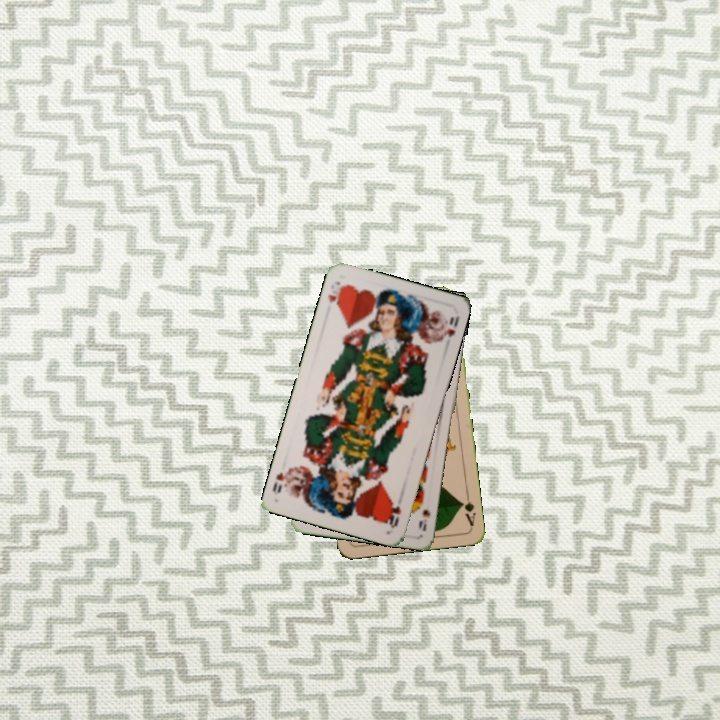GA: (457, 488, 478, 529)
HO: (324, 277, 346, 310), (385, 498, 404, 530)
S9: (415, 505, 433, 534)
